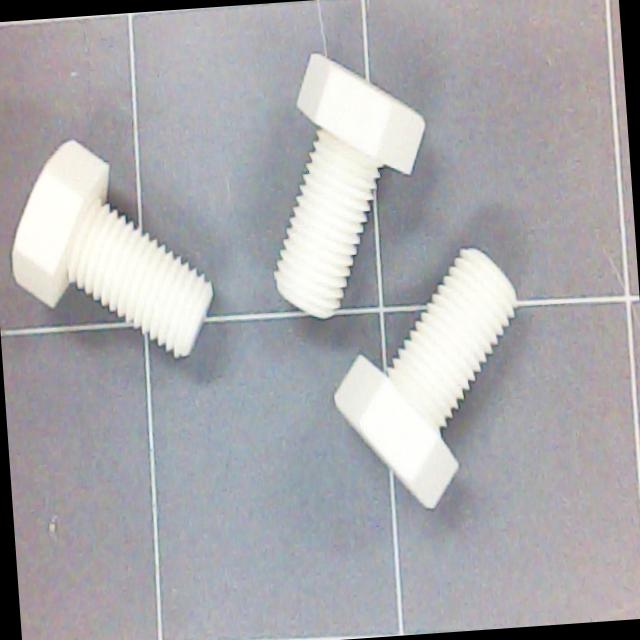bolts: (309, 224, 559, 511), (0, 133, 248, 362), (251, 52, 436, 332)
